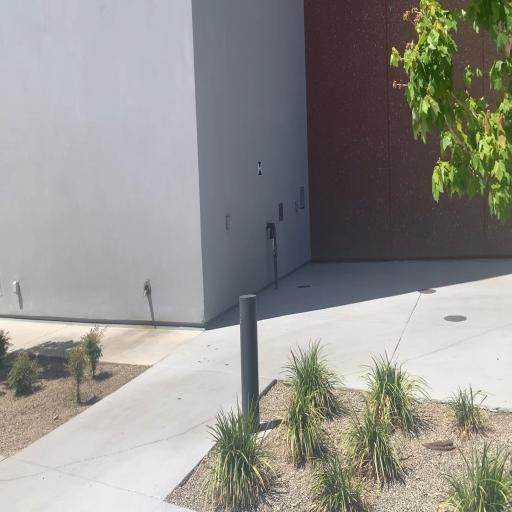target3: (258, 161, 262, 175)
